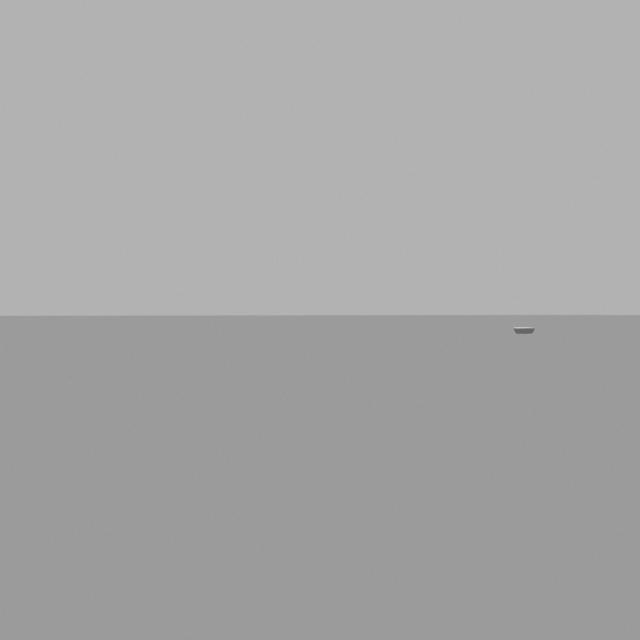bowl: (510, 318, 541, 345)
